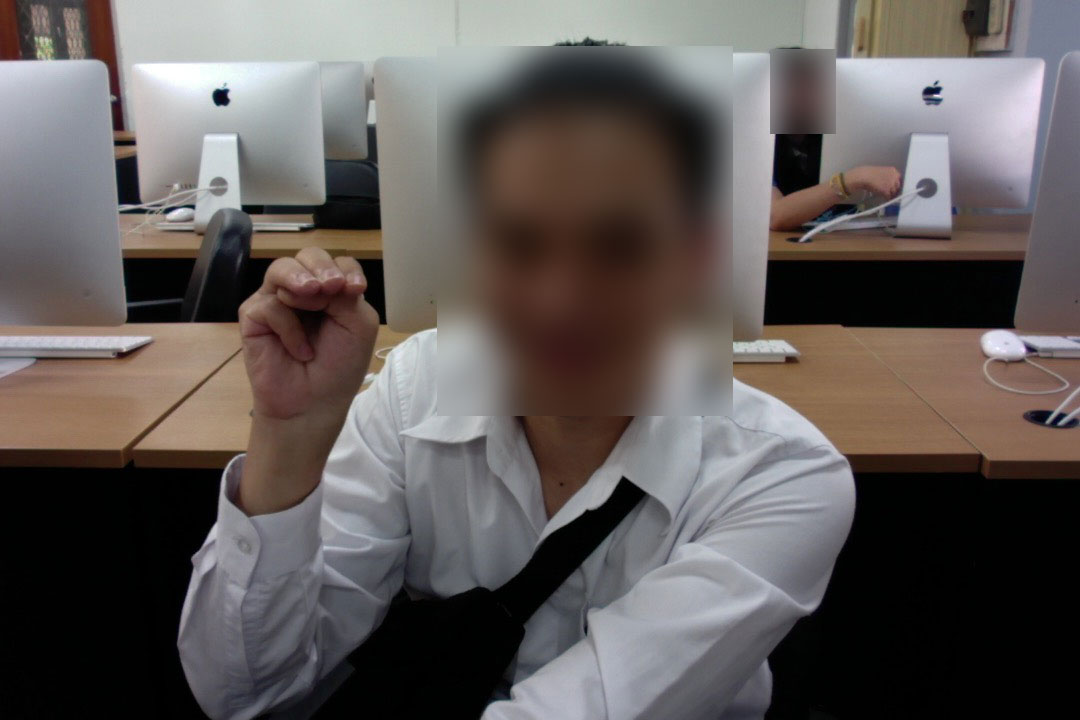mor: (232, 235, 383, 431)
